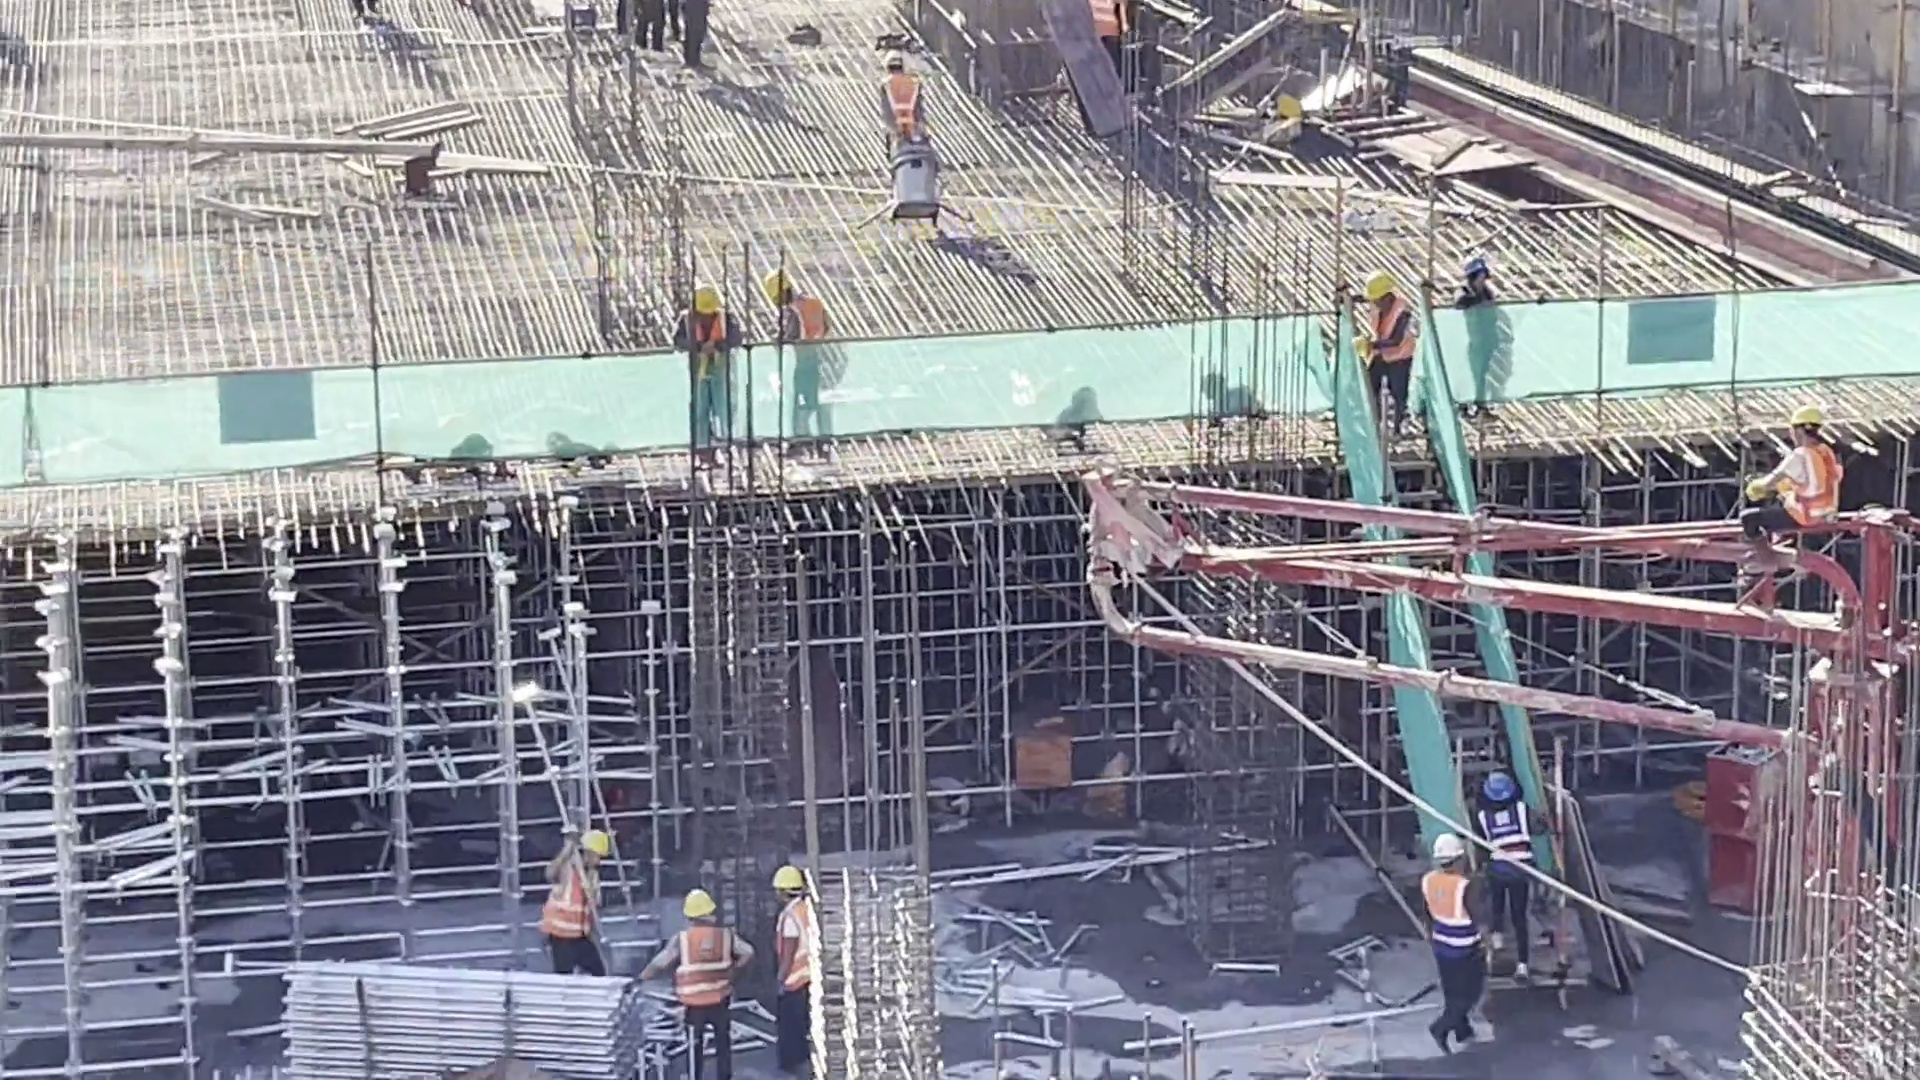helmet: (688, 277, 730, 322), (761, 863, 804, 901), (673, 883, 716, 920), (1478, 762, 1512, 808), (1354, 264, 1402, 295), (1426, 834, 1473, 861), (578, 822, 613, 856), (757, 275, 795, 306), (1796, 403, 1836, 427)
person: (630, 874, 759, 1080), (1405, 827, 1486, 1057), (1739, 393, 1845, 553), (1464, 776, 1537, 990), (759, 863, 825, 1064), (757, 266, 831, 445), (1348, 263, 1421, 438), (545, 820, 616, 971), (679, 284, 734, 449), (874, 47, 927, 163)
scaffold: (267, 955, 663, 1080)
vest: (1414, 869, 1481, 974), (1760, 445, 1842, 527), (765, 899, 820, 993), (667, 931, 737, 1004), (1476, 802, 1537, 871), (547, 870, 603, 944), (1363, 298, 1411, 377), (886, 77, 926, 137)
